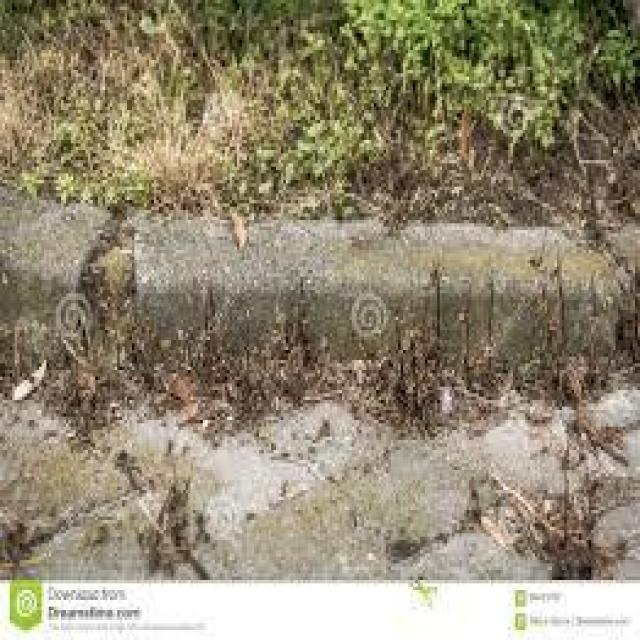bump: (11, 169, 640, 426)
